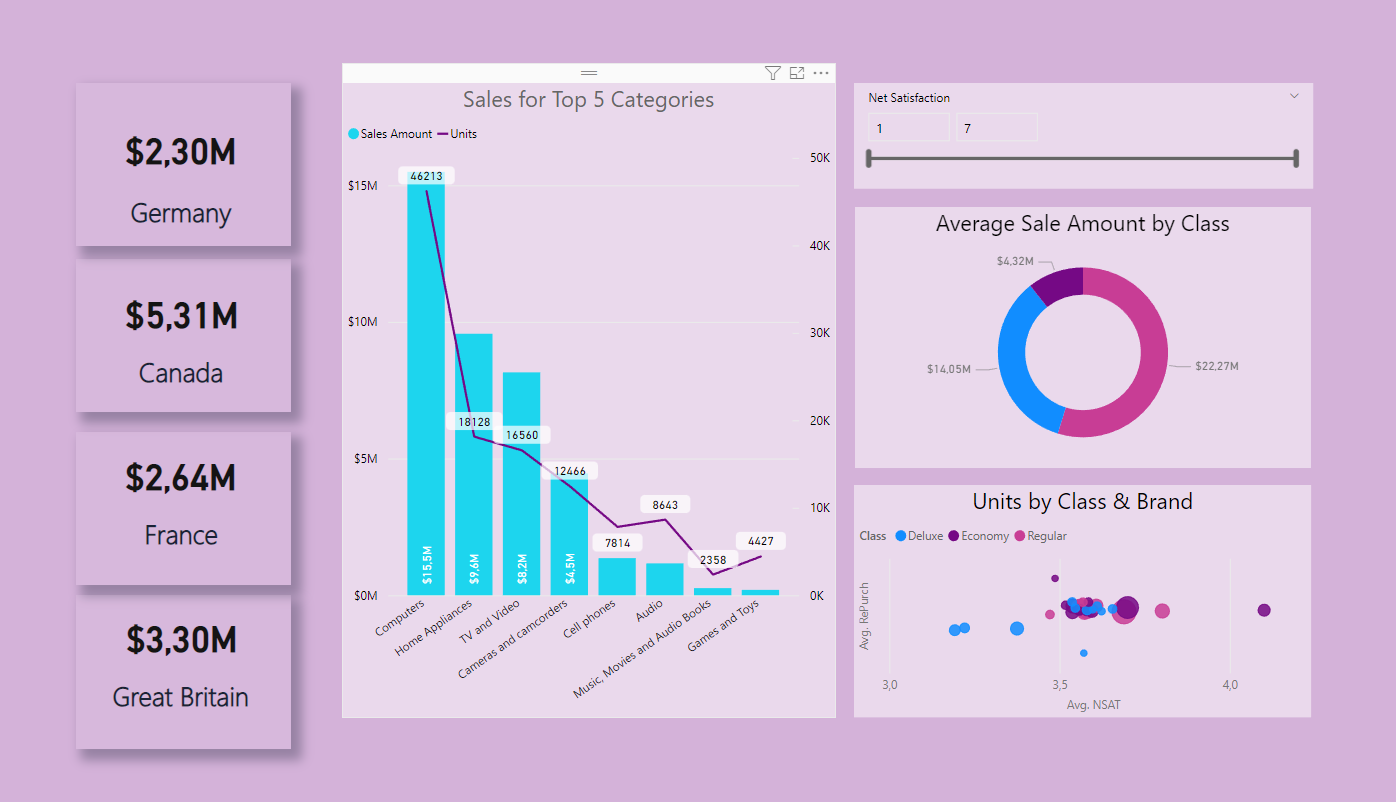

Layout of this report page (visuals, bound fields, positions):
{"tool":"powerbi","page":{"name":"Overview","canvas":[1280,720],"ordinal":0},"visuals":[{"type":"slicer","fields":{"Values":["Sales.NSAT"]},"box":[784.5,63.6,416.7,96.3],"z":0},{"type":"textbox","title":"Purple Title","box":[77.6,598.3,192.1,52.4],"z":1000},{"type":"card","title":"Purple Card","fields":{"Values":["Sum(Sales.SalesAmount)"]},"box":[78,517.2,192.1,97.7],"z":2000},{"type":"textbox","title":"Pink Title","box":[77,450.8,192.7,52.4],"z":3000},{"type":"card","title":"Pink Card","fields":{"Values":["Sum(Sales.SalesAmount)"]},"box":[77.4,370.6,192.1,97.7],"z":4000},{"type":"textbox","title":"Orange Title","box":[77,304,192.7,52.4],"z":5000},{"type":"card","title":"Orange Card","fields":{"Values":["Sum(Sales.SalesAmount)"]},"box":[78,223.3,192.1,97.7],"z":6000},{"type":"textbox","title":"Yellow Title","box":[76.3,158.5,194,52.4],"z":7000},{"type":"card","title":"Yellow Card","fields":{"Values":["Sum(Sales.SalesAmount)"]},"box":[77.4,74.7,192.1,97.7],"z":8000},{"type":"scatterChart","title":"Units by Class & Brand","fields":{"X":["Sales.NSAT"],"Y":["Sales.PurchAgain"],"Size":["Sum(Sales.Units)"],"Series":["Sales.Class"],"Category":["Sales.BrandName"]},"box":[784.4,428.9,415.2,211.4],"z":9000},{"type":"donutChart","title":"Average Sale Amount by Class","fields":{"Category":["Sales.Class"],"Y":["Sum(Sales.SalesAmount)"]},"box":[785.8,175.9,413.9,237.3],"z":10000},{"type":"lineStackedColumnComboChart","title":"Sales for Top 5 Categories","fields":{"Category":["Sales.Category"],"Y":["Sum(Sales.SalesAmount)"],"Y2":["Sum(Sales.Units)"]},"box":[320,64,448,576],"z":11000},{"type":"basicShape","title":"Yellow Clicker","box":[77.8,63.2,194.5,147.8],"z":12000},{"type":"basicShape","title":"Orange Clicker","box":[77.8,223.7,194.5,139.1],"z":13000},{"type":"basicShape","title":"Pink Clicker","box":[77.8,380.3,194.5,139.1],"z":14000},{"type":"basicShape","title":"Purple Clicker","box":[77.8,528.1,194.5,140.1],"z":15000}]}

Visuals, with their boxes in screenshot pixels (x1, y1, x2, y2), scaled from the page's 1280x720 canvas onto the 1396x802 screenshot:
slicer - Sales.NSAT: (x1=856, y1=71, x2=1310, y2=178)
"Purple Title" textbox: (x1=85, y1=666, x2=294, y2=725)
"Purple Card" card: (x1=85, y1=576, x2=295, y2=685)
"Pink Title" textbox: (x1=84, y1=502, x2=294, y2=561)
"Pink Card" card: (x1=84, y1=413, x2=294, y2=522)
"Orange Title" textbox: (x1=84, y1=339, x2=294, y2=397)
"Orange Card" card: (x1=85, y1=249, x2=295, y2=358)
"Yellow Title" textbox: (x1=83, y1=177, x2=295, y2=235)
"Yellow Card" card: (x1=84, y1=83, x2=294, y2=192)
"Units by Class & Brand" scatterChart: (x1=855, y1=478, x2=1308, y2=713)
"Average Sale Amount by Class" donutChart: (x1=857, y1=196, x2=1308, y2=460)
"Sales for Top 5 Categories" lineStackedColumnComboChart: (x1=349, y1=71, x2=838, y2=713)
"Yellow Clicker" basicShape: (x1=85, y1=70, x2=297, y2=235)
"Orange Clicker" basicShape: (x1=85, y1=249, x2=297, y2=404)
"Pink Clicker" basicShape: (x1=85, y1=424, x2=297, y2=579)
"Purple Clicker" basicShape: (x1=85, y1=588, x2=297, y2=744)
